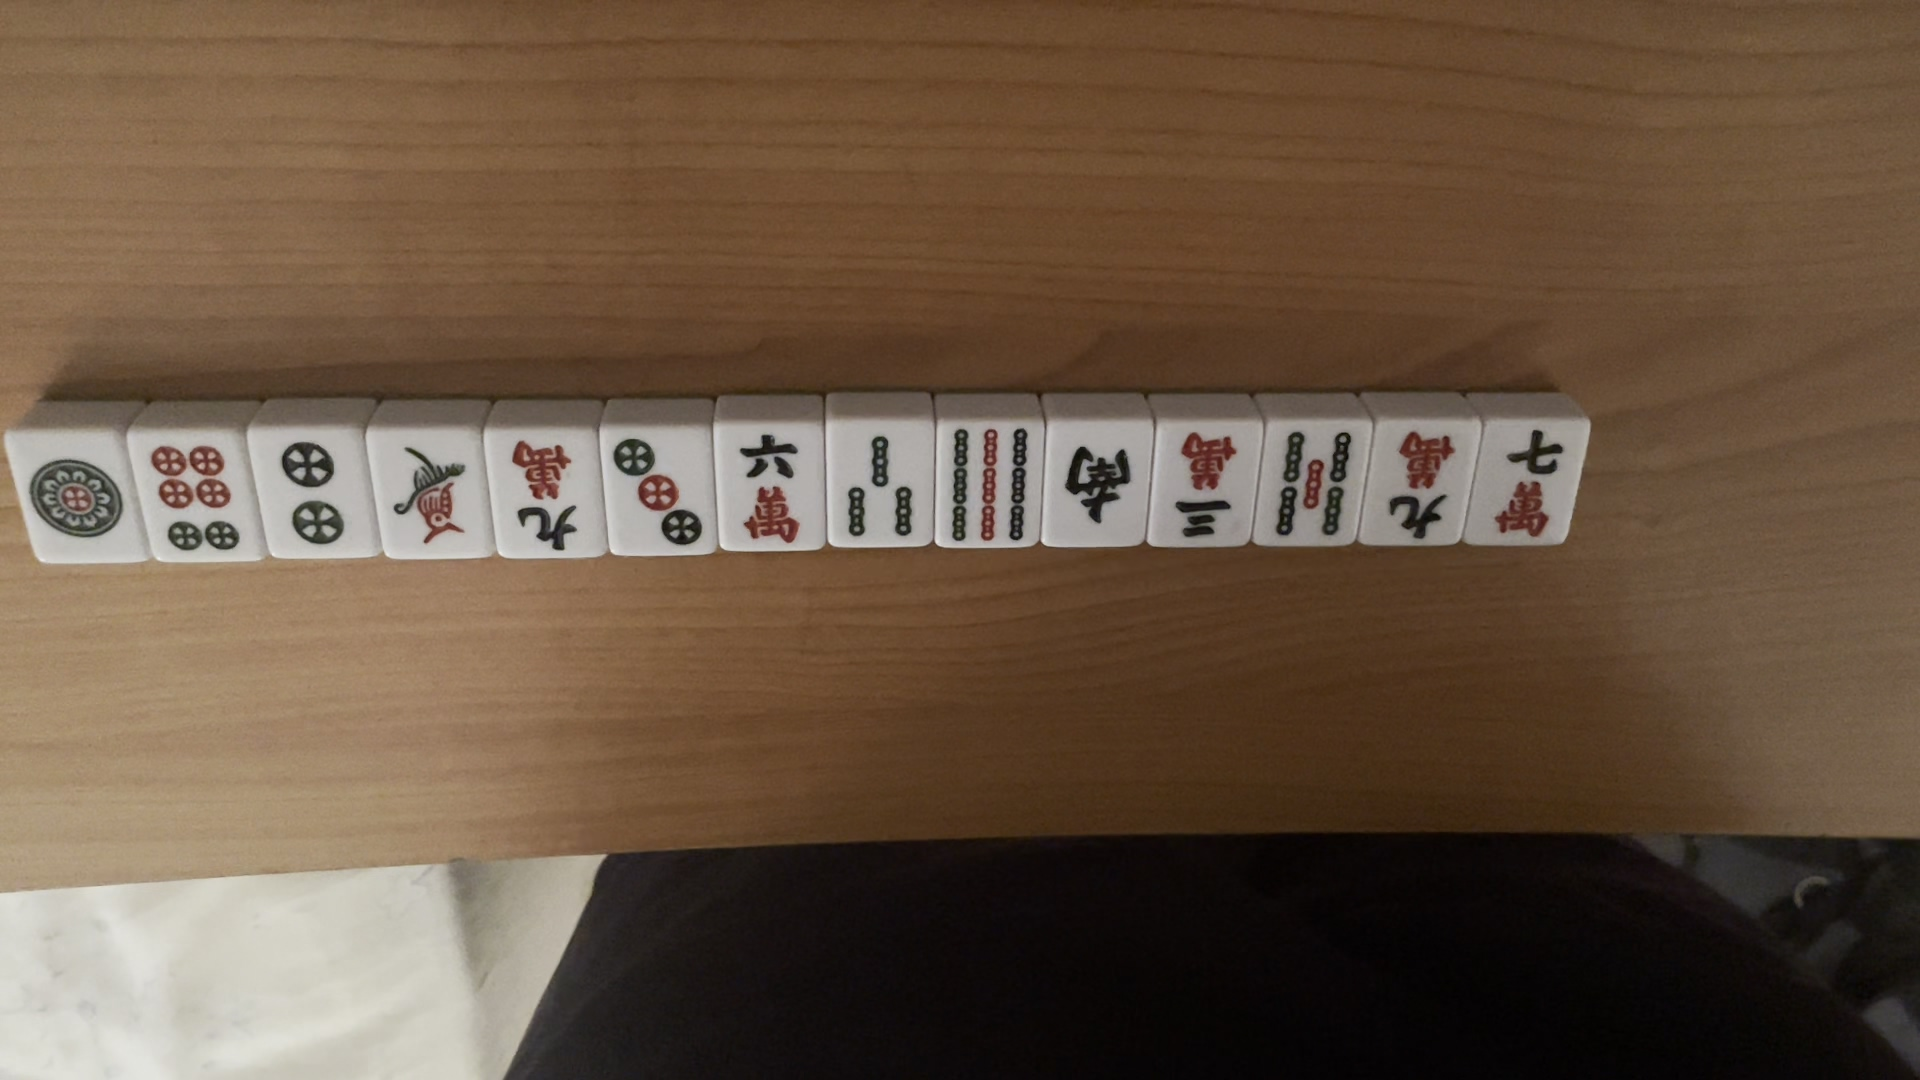b-1: (382, 440, 469, 556)
b-3: (841, 430, 918, 538)
b-5: (1271, 419, 1357, 537)
b-9: (942, 422, 1033, 551)
c-3: (1168, 429, 1241, 549)
c-6: (728, 433, 810, 551)
c-7: (1486, 422, 1568, 543)
c-9: (497, 438, 584, 556), (1383, 431, 1460, 541)
d-1: (20, 454, 128, 547)
d-2: (270, 434, 347, 546)
d-3: (607, 434, 699, 546)
d-6: (145, 438, 244, 559)
honors-south: (1058, 443, 1135, 530)
